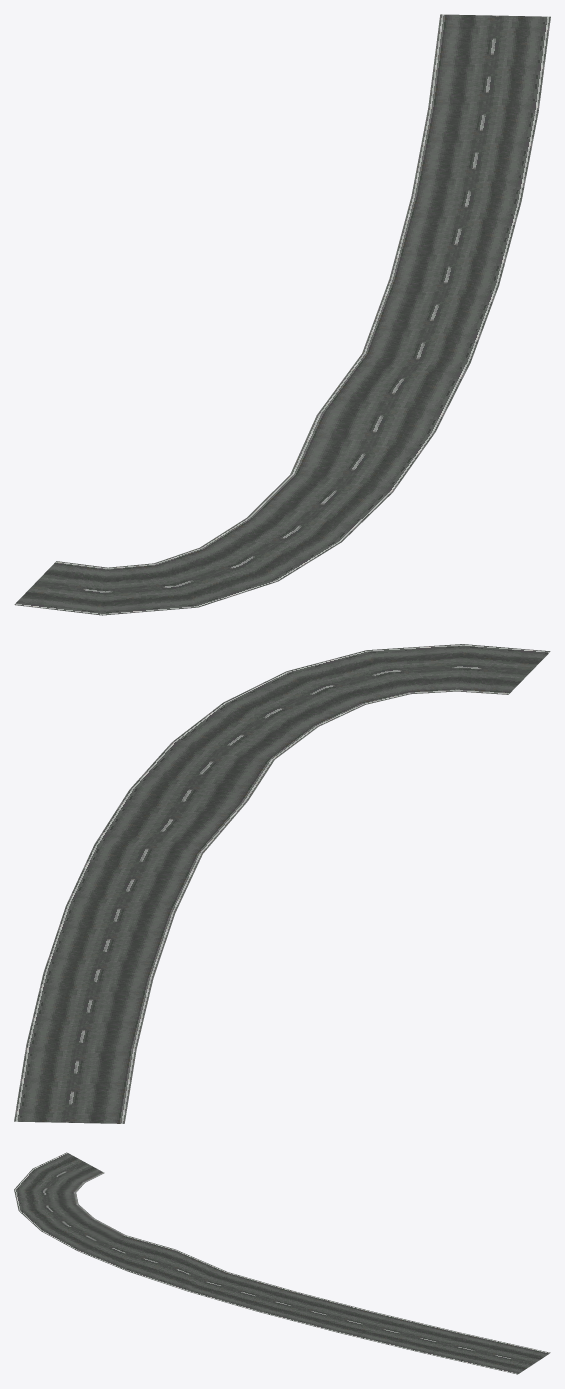
File: lodcuntwroad42.obj
3 views of the same model, one above another, from view 1: azimuth 30°, elevation 25°; view 2: azimuth 210°, elevation 25°; view 3: azimuth 270°, elevation 25° (orthographic). The views are drawn at different scales.
Visible parts, largest first — view 1: LODcuntwroad42; view 2: LODcuntwroad42; view 3: LODcuntwroad42.
Boxes of the visible parts, x1,y1,x2,y2 form: LODcuntwroad42: (14, 14, 550, 615); LODcuntwroad42: (14, 644, 550, 1123); LODcuntwroad42: (14, 1152, 550, 1374).
Bounding box in the file's own units: 118 × 7.23 × 105.
1 material, 1 textured.
